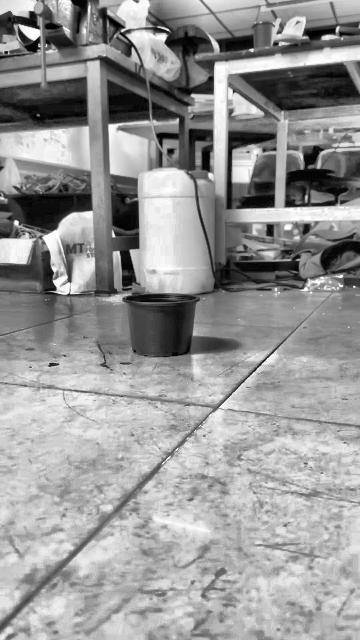pot: (124, 293, 199, 356)
